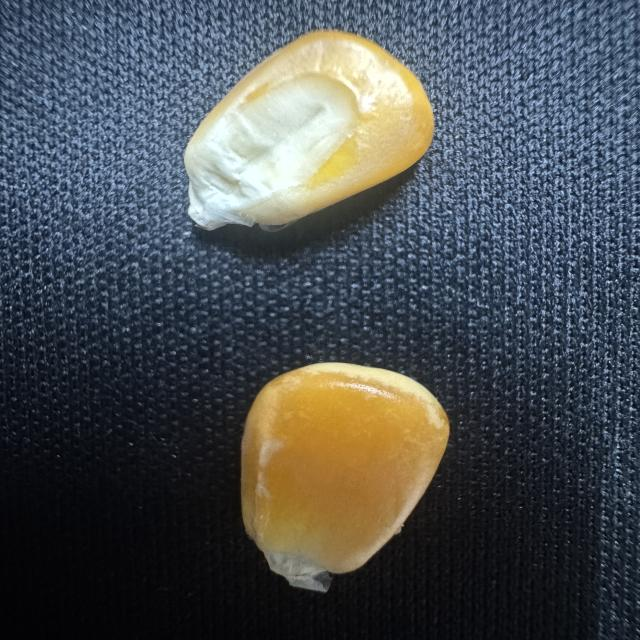Good-Seed: (168, 26, 443, 238), (235, 356, 455, 594)
